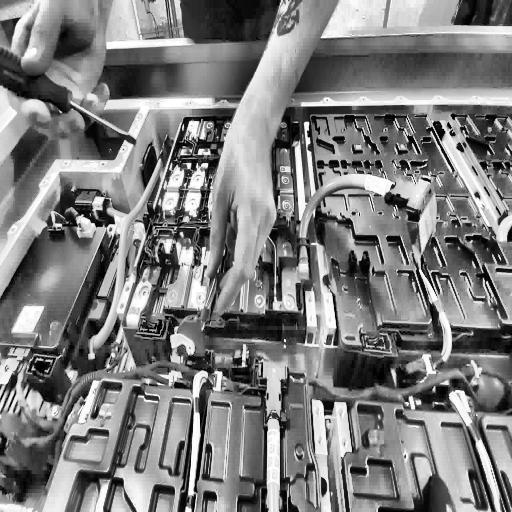high_volt_cable: (84, 132, 172, 359), (291, 160, 441, 274)
low_volt_cable: (10, 257, 512, 502)
nut: (50, 401, 60, 417)
